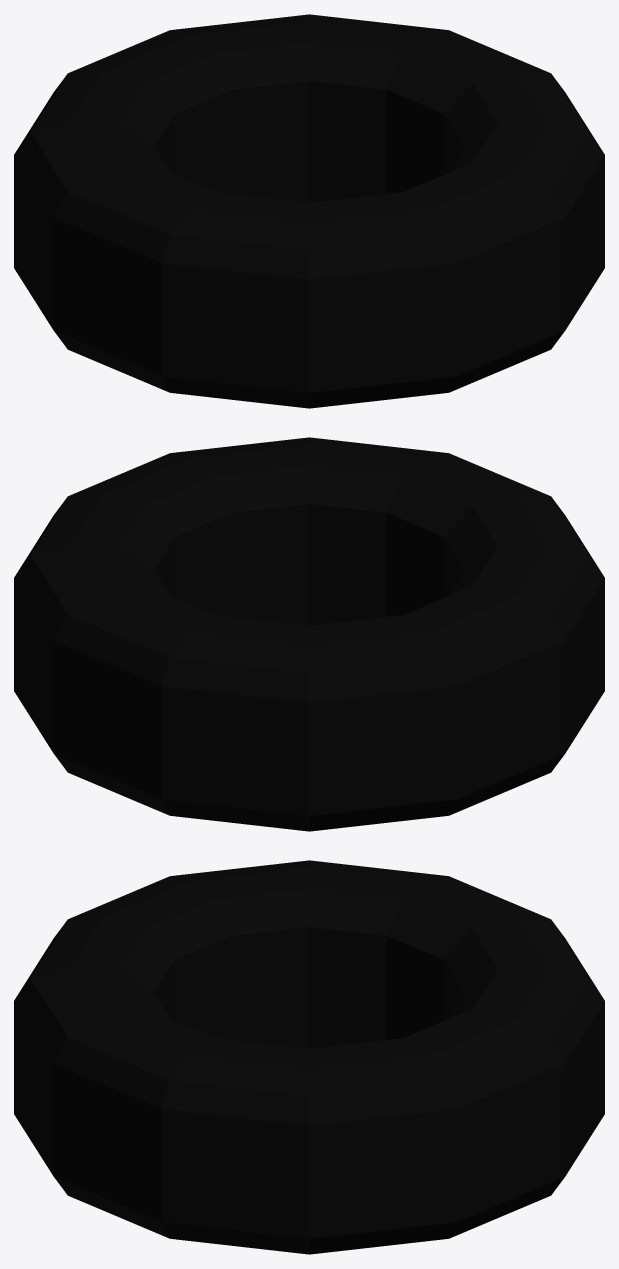
File: tire.fbx
3 views of the same model, one above another, from view 1: azimuth 30°, elevation 25°; view 2: azimuth 150°, elevation 25°; view 3: azimuth 270°, elevation 25° (orthographic).
Visible parts, largest first — view 1: Tire; view 2: Tire; view 3: Tire.
Boxes of the visible parts, bbox=[...] form: Tire: bbox=[14, 14, 604, 408]; Tire: bbox=[14, 437, 604, 831]; Tire: bbox=[14, 860, 604, 1254].
Size of the model in its own units: 199 by 65.7 by 199.
